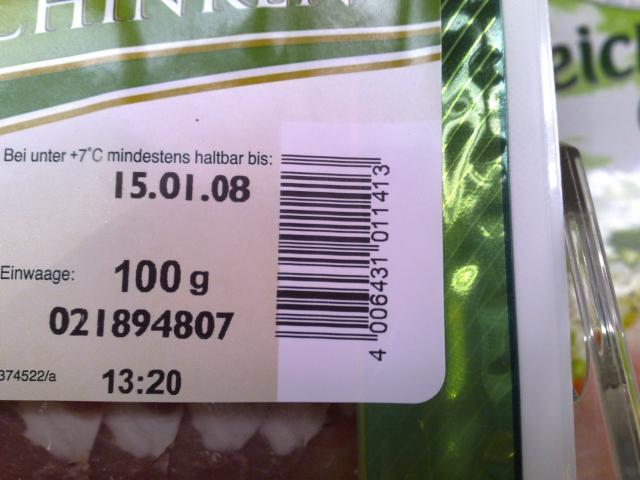Barcode: (272, 149, 396, 368)
